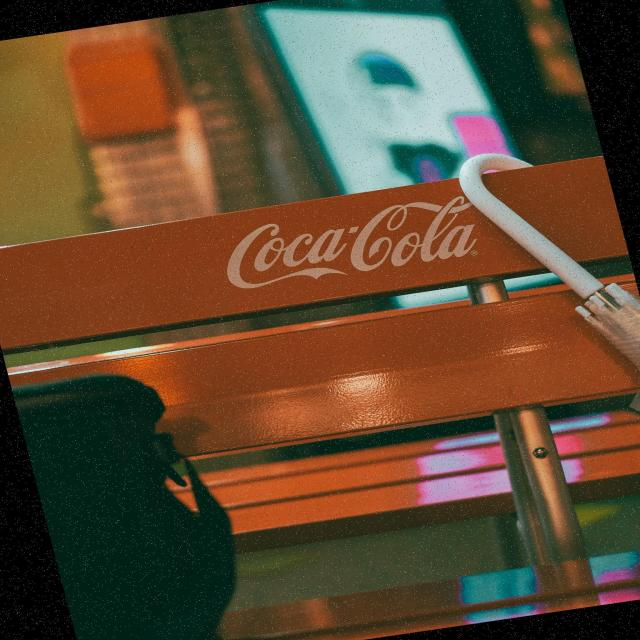coca-cola: (210, 181, 498, 300)
